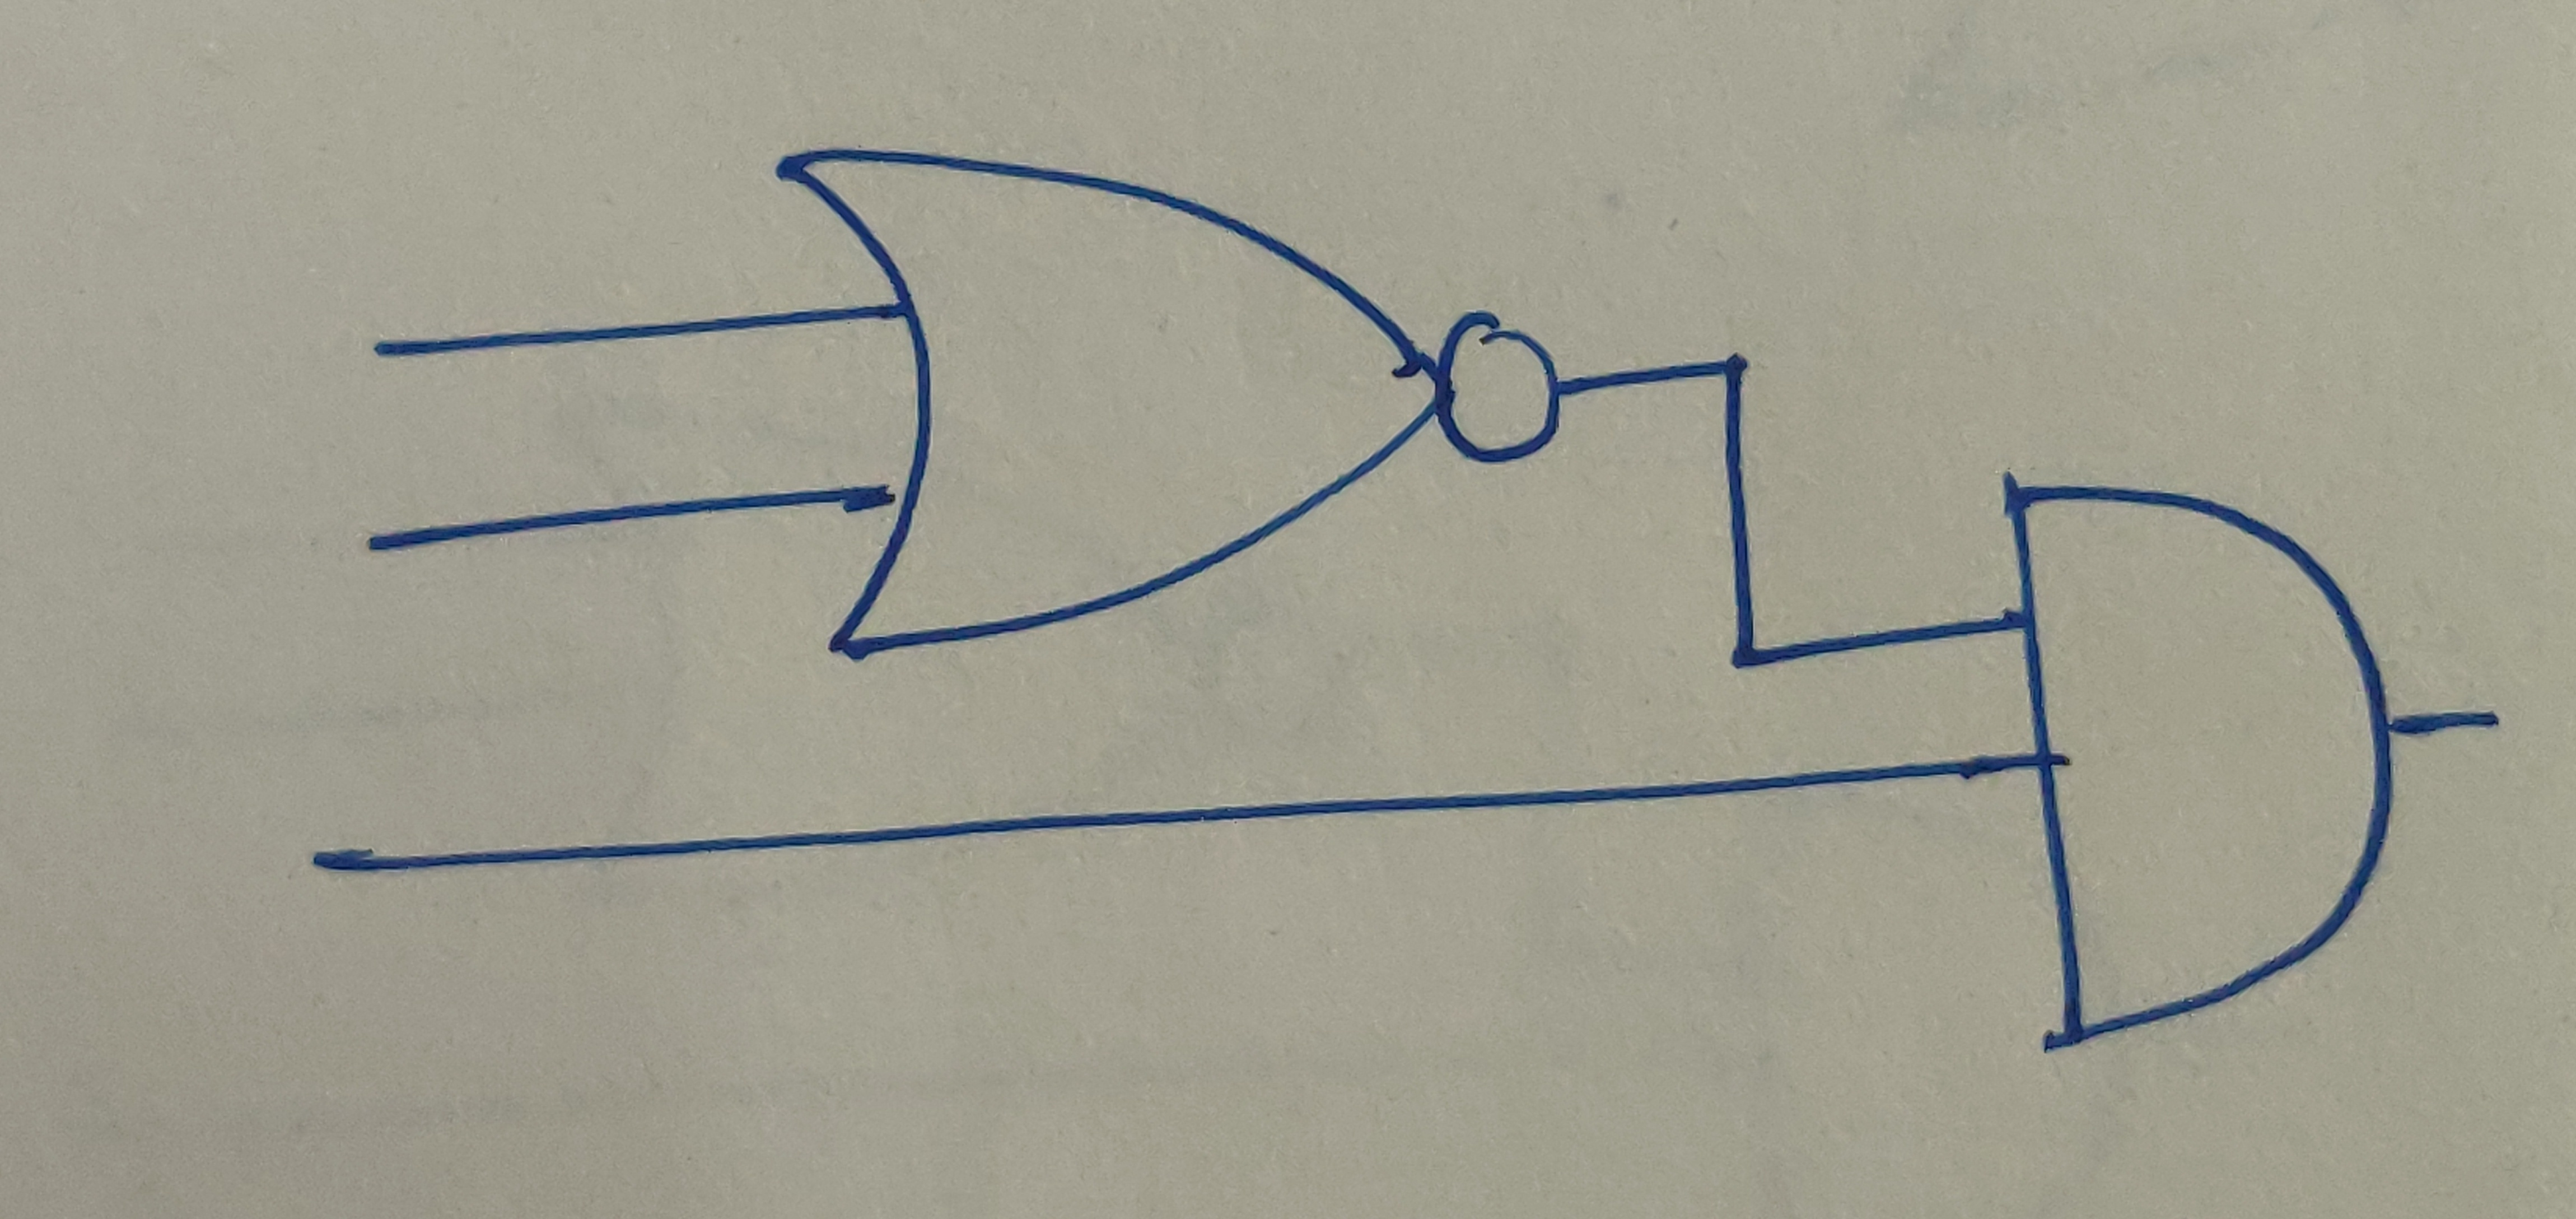and: (2003, 481, 2399, 1048)
not: (1436, 309, 1564, 468)
or: (770, 145, 1449, 665)
